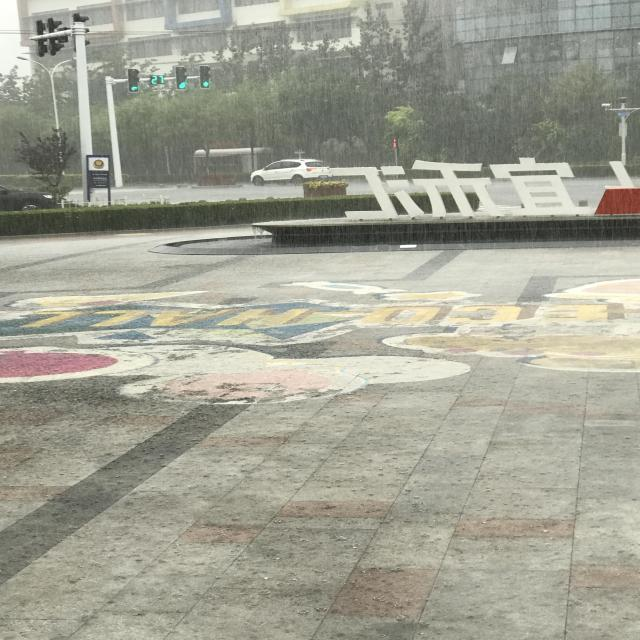car: (157, 302, 188, 392), (182, 579, 218, 640)
